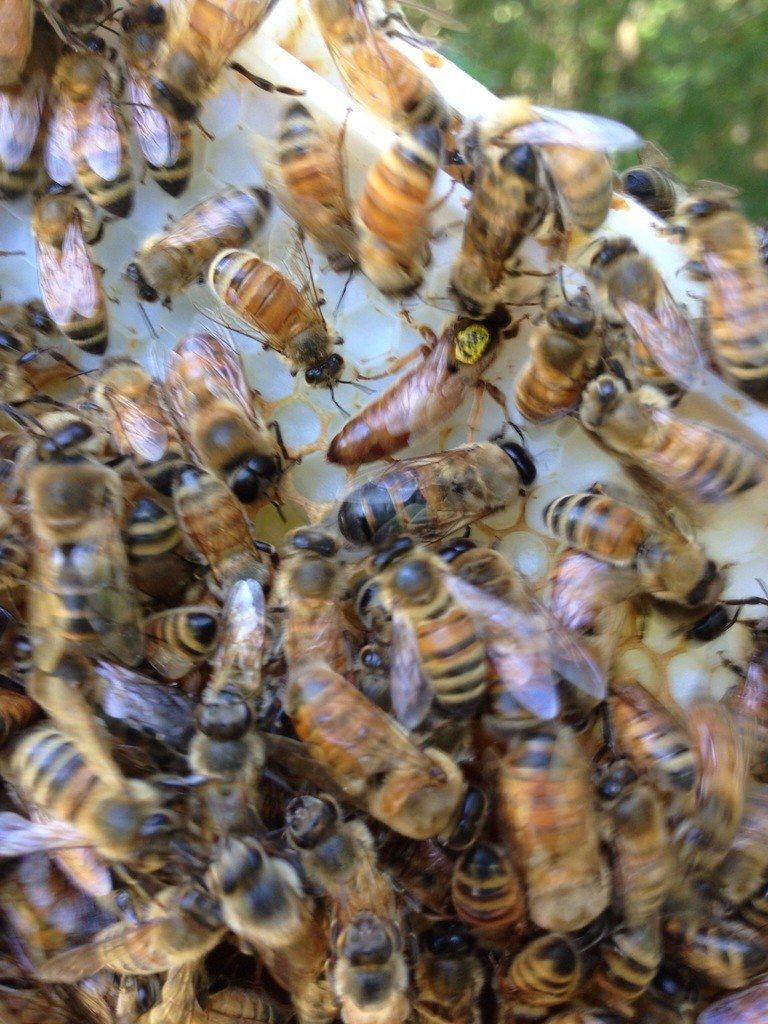bee: (0, 682, 451, 1023), (0, 666, 213, 911), (362, 537, 610, 736), (96, 0, 307, 213), (319, 297, 528, 495), (195, 219, 382, 417), (278, 0, 486, 175), (223, 99, 390, 316), (168, 330, 323, 547), (521, 227, 715, 400), (348, 407, 552, 561), (94, 185, 304, 332), (460, 103, 660, 246), (488, 745, 638, 932), (572, 378, 767, 521), (31, 1, 150, 227), (550, 486, 743, 617), (444, 111, 554, 320), (24, 164, 136, 360), (24, 537, 173, 680), (0, 407, 104, 609), (104, 0, 204, 196), (547, 540, 652, 721), (624, 159, 767, 287), (82, 362, 206, 500), (680, 222, 767, 413), (669, 707, 764, 879), (505, 295, 628, 420), (183, 561, 283, 714), (122, 492, 237, 614), (437, 815, 540, 945), (607, 750, 680, 920), (584, 906, 687, 1023), (168, 452, 262, 579), (691, 766, 767, 920), (0, 294, 103, 402), (132, 582, 237, 682), (0, 0, 90, 110), (664, 906, 767, 1002), (484, 922, 577, 1023), (260, 535, 379, 610), (713, 643, 767, 804), (409, 931, 507, 1018), (0, 85, 59, 211)
